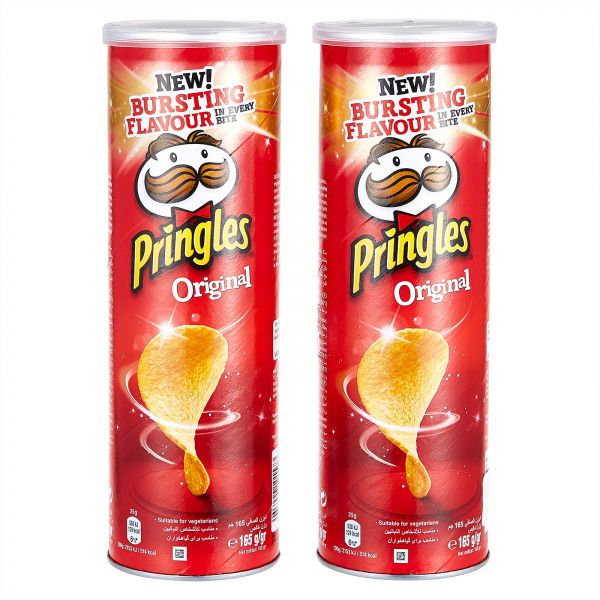pringle: (94, 14, 288, 585), (309, 15, 501, 584)
